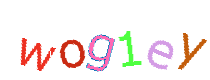1: (64, 0, 144, 80)
E: (89, 0, 169, 80)
G: (61, 0, 141, 80)
O: (55, 0, 135, 80)
W: (51, 0, 131, 80)
Y: (107, 0, 187, 80)
